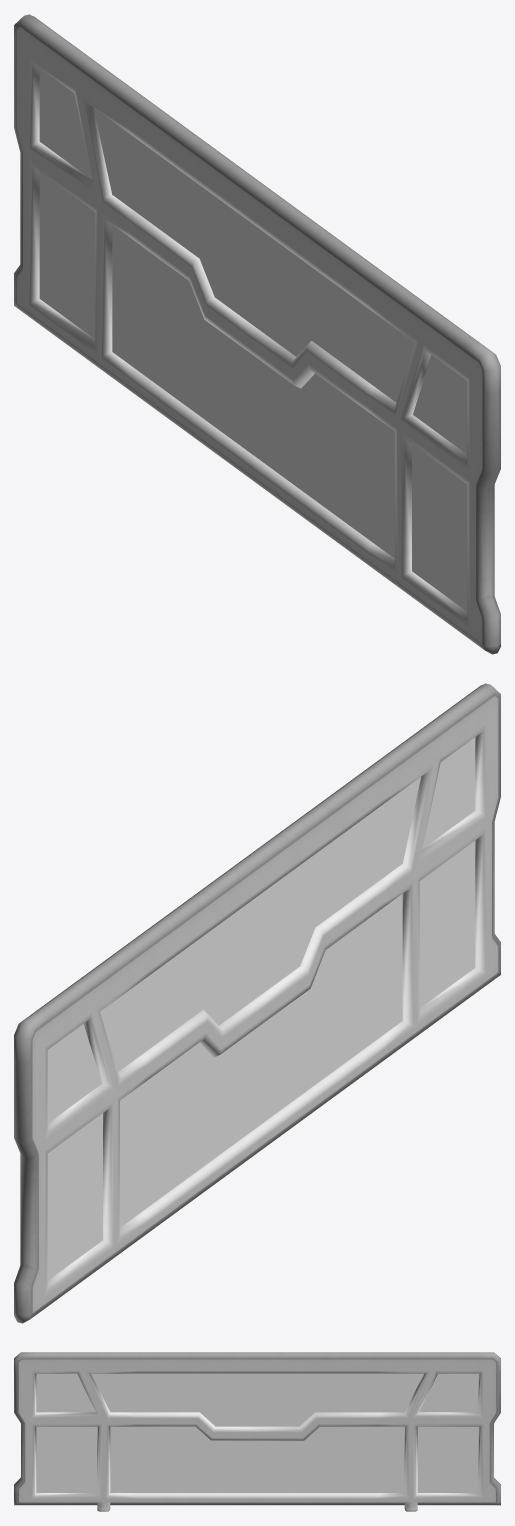
Rendered from SM_MStair01-Parapet-350-1.FBX.
The picture shows the model from 3 angles, top to bottom: view 1: azimuth 30°, elevation 25°; view 2: azimuth 150°, elevation 25°; view 3: azimuth 270°, elevation 25°; orthographic projection. The views are drawn at different scales.
Visible parts, largest first — view 1: SM_MStair01-Parapet-350-1; view 2: SM_MStair01-Parapet-350-1; view 3: SM_MStair01-Parapet-350-1.
Part boxes in pixels (box(x1,y1,x2,y2)): SM_MStair01-Parapet-350-1: box(14, 14, 500, 654); SM_MStair01-Parapet-350-1: box(14, 683, 500, 1323); SM_MStair01-Parapet-350-1: box(14, 1352, 500, 1511).
Size of what is drawn, in the model's own units: 15.44 by 350 by 120.
